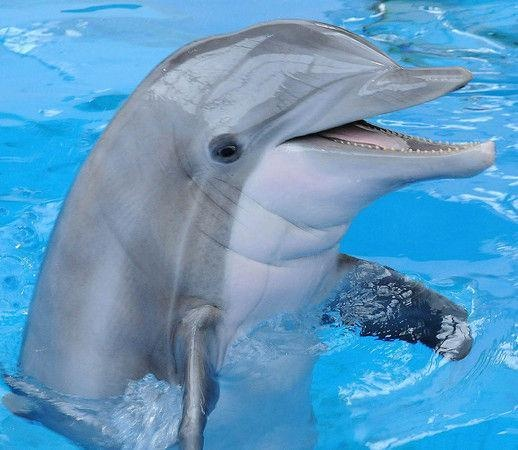fish: (15, 18, 499, 450)
